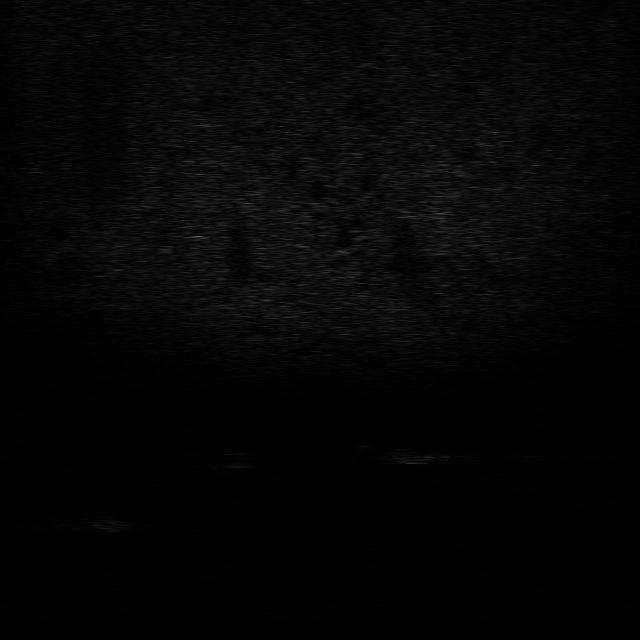ball: (214, 449, 258, 471)
circle cage: (56, 508, 129, 536)
human body: (345, 438, 454, 467)
